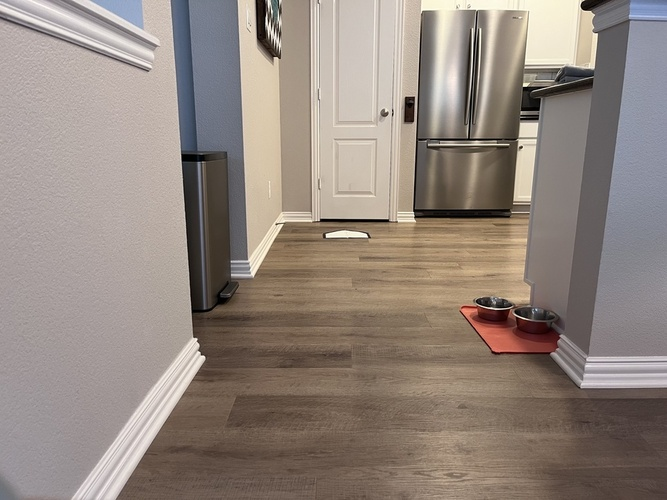homeplate: (322, 229, 370, 239)
